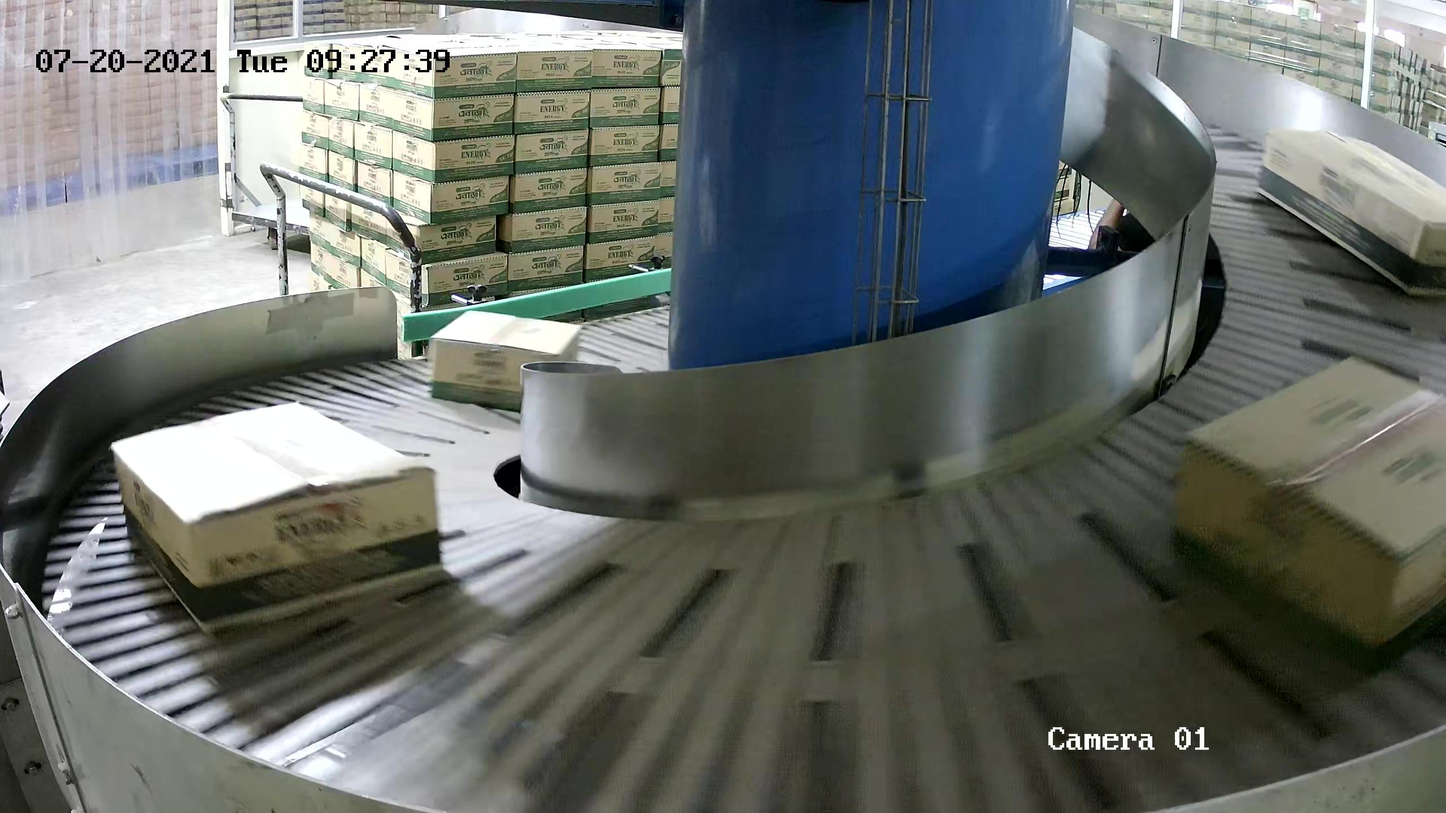Box: (1168, 350, 1446, 677), (109, 399, 447, 638), (1255, 124, 1446, 300), (427, 308, 582, 414)
